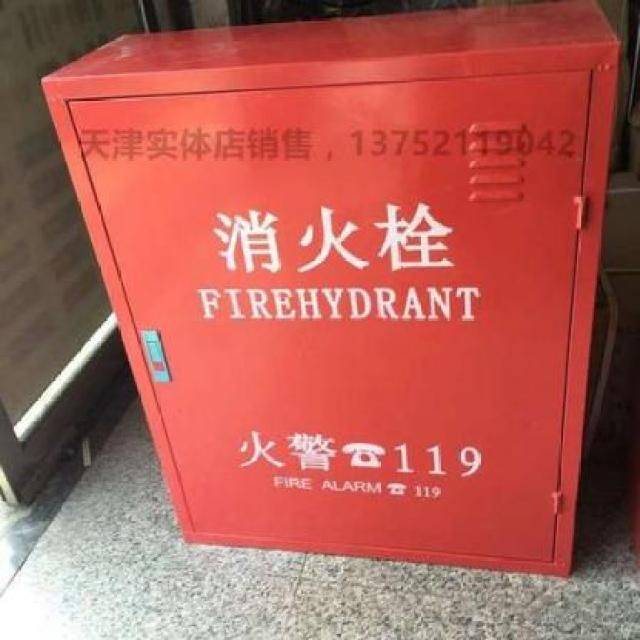firehydrant: (32, 0, 626, 583)
